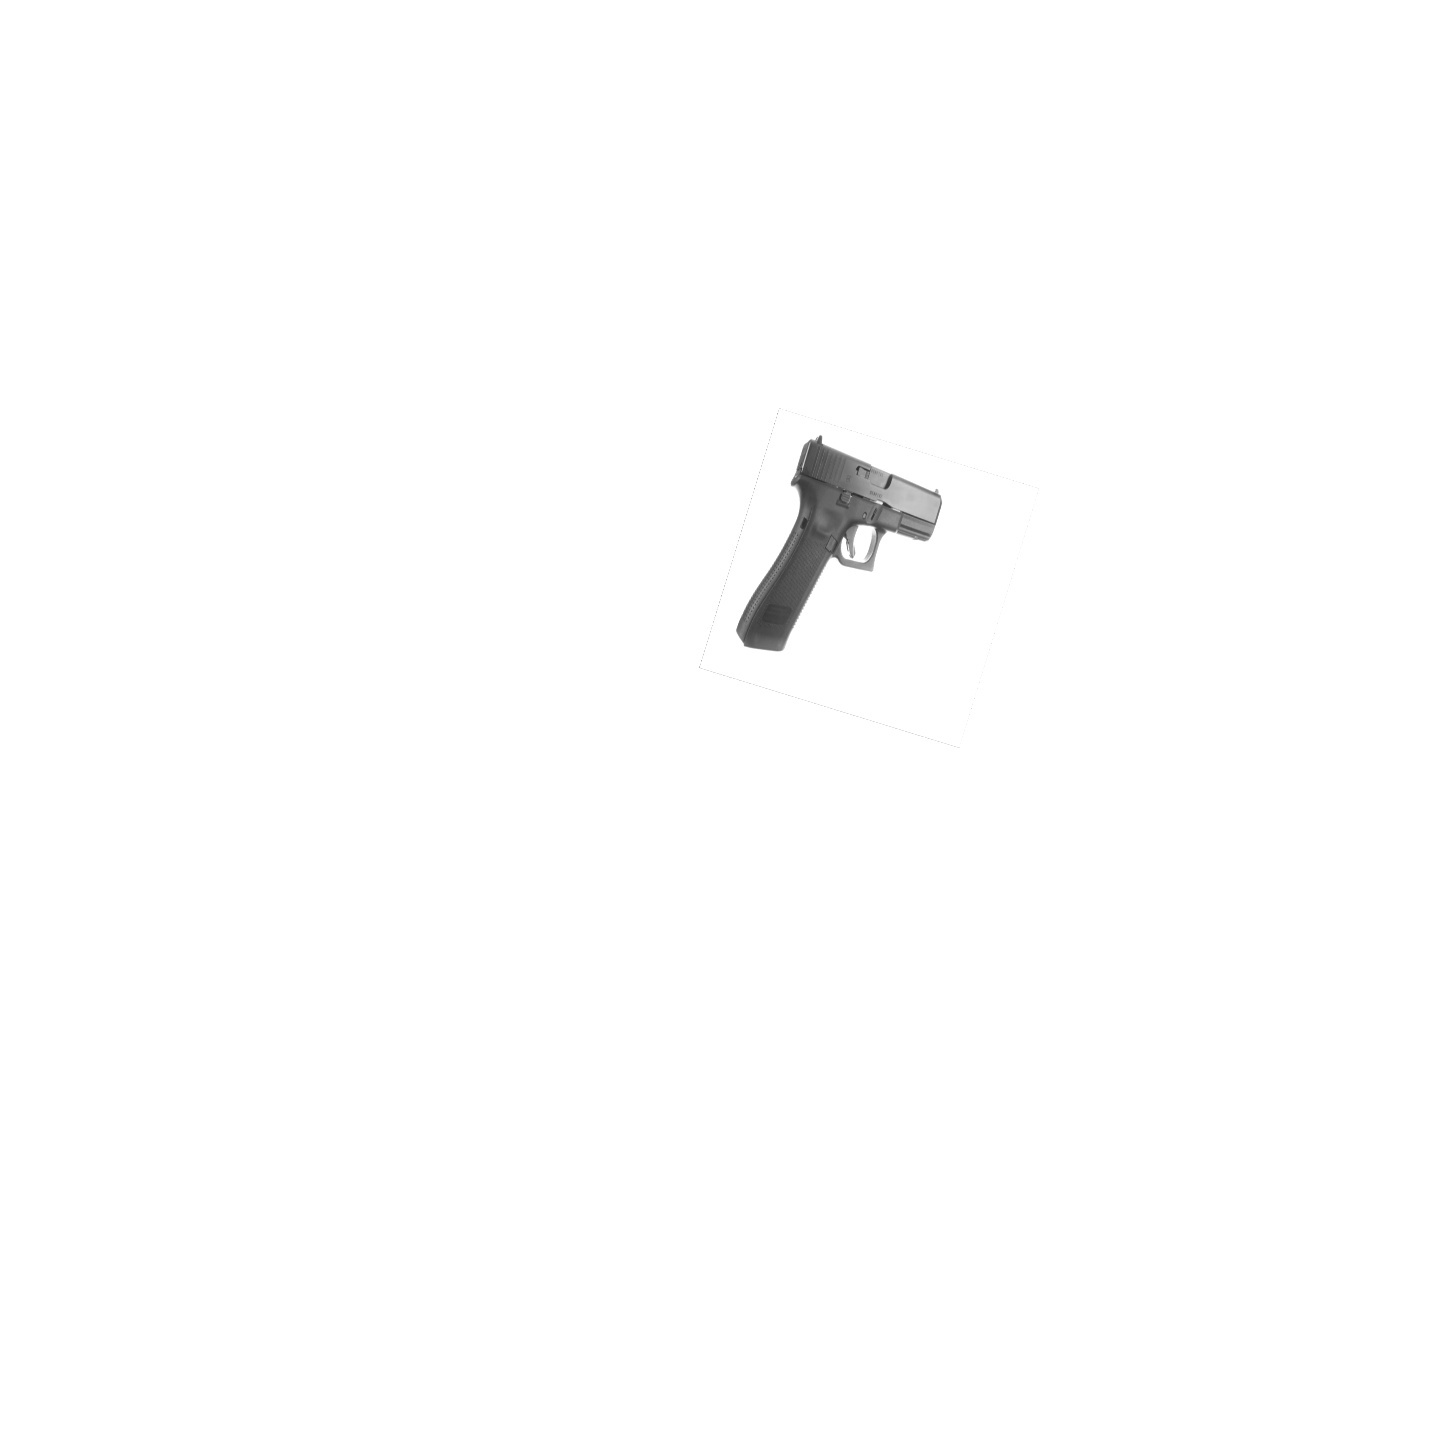gun: (712, 423, 948, 666)
